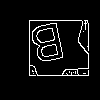B: (27, 21, 69, 74)
